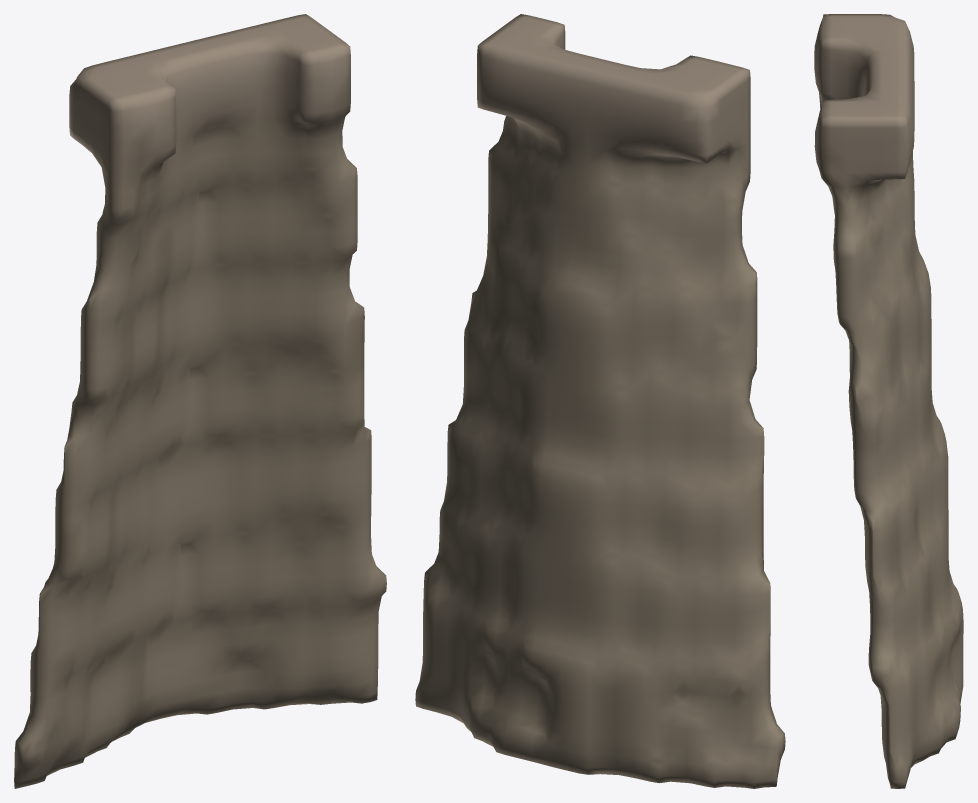
Rendered from plate_uncommon_cloak_lod1.glb.
The picture shows the model from 3 angles, left to right: view 1: azimuth 30°, elevation 25°; view 2: azimuth 150°, elevation 25°; view 3: azimuth 270°, elevation 25°; orthographic projection. The views are drawn at different scales.
Visible parts, largest first — view 1: plate_uncommon_cloak_lod1; view 2: plate_uncommon_cloak_lod1; view 3: plate_uncommon_cloak_lod1.
Part boxes in pixels (x1,y1,x2,y2): plate_uncommon_cloak_lod1: (14,14,386,788); plate_uncommon_cloak_lod1: (415,14,785,788); plate_uncommon_cloak_lod1: (814,14,963,788).
Bounding box in the file's own units: 0.5517 × 1.01 × 0.2126.
